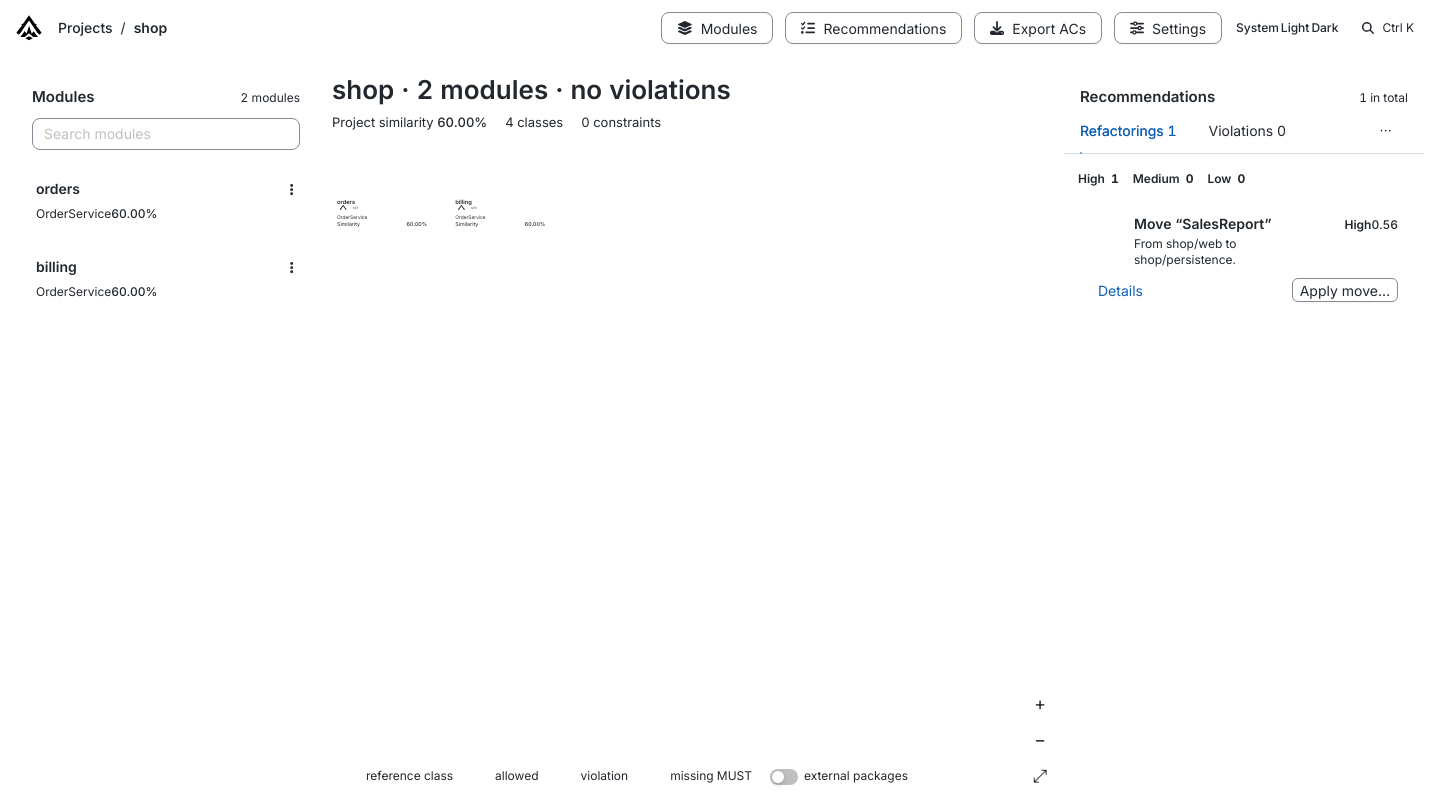
Scenario: AnalyzePage › shows the re-elected modules and new recommendations after the weights change
Check: the button "Apply move…" is shown, box [1292,278,1398,302]
Step 1. Click the button "Settings" → (1168, 28), box [1114,12,1222,44]
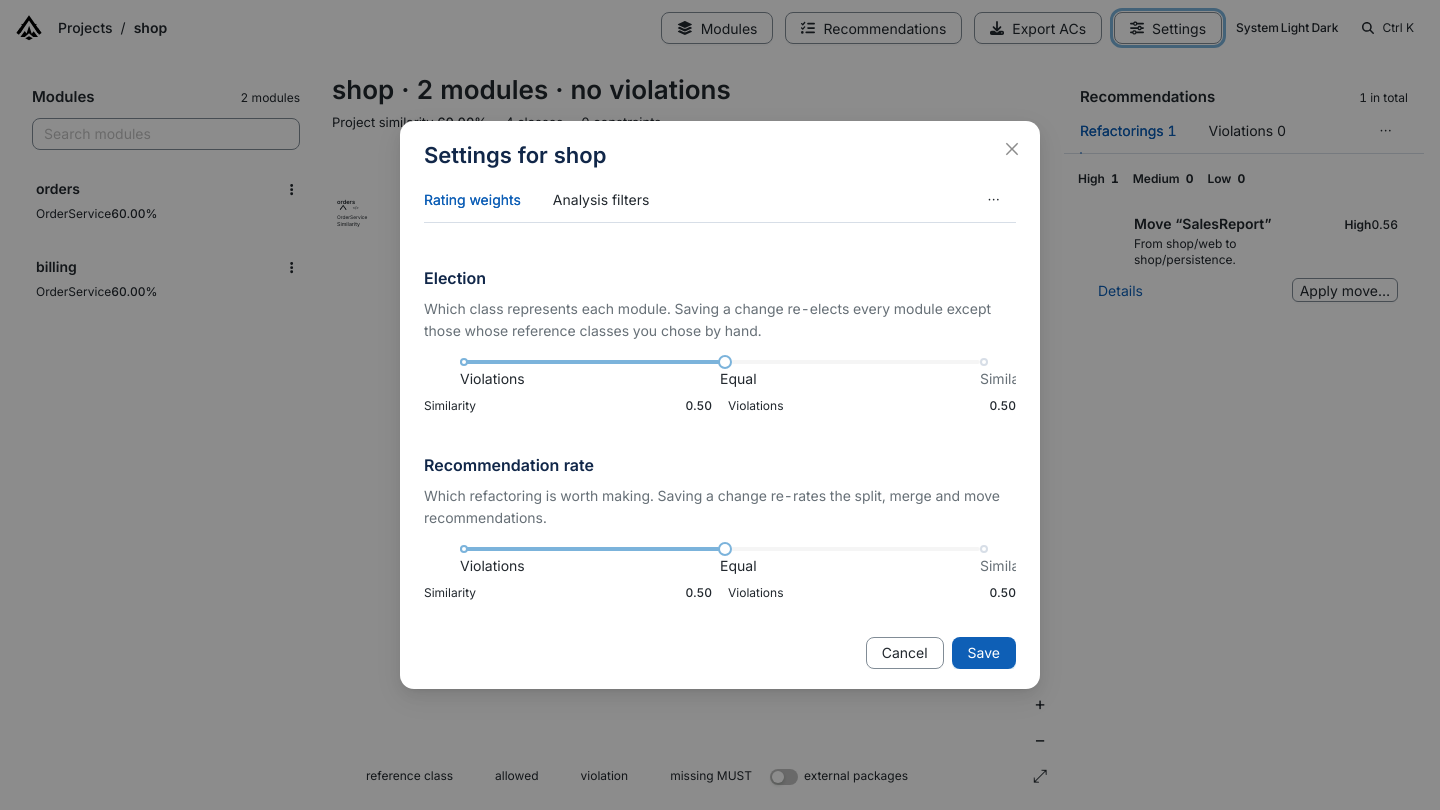
Step 2. Press ArrowRight in the slider named "Election: similarity weight", box [720,357,730,367]
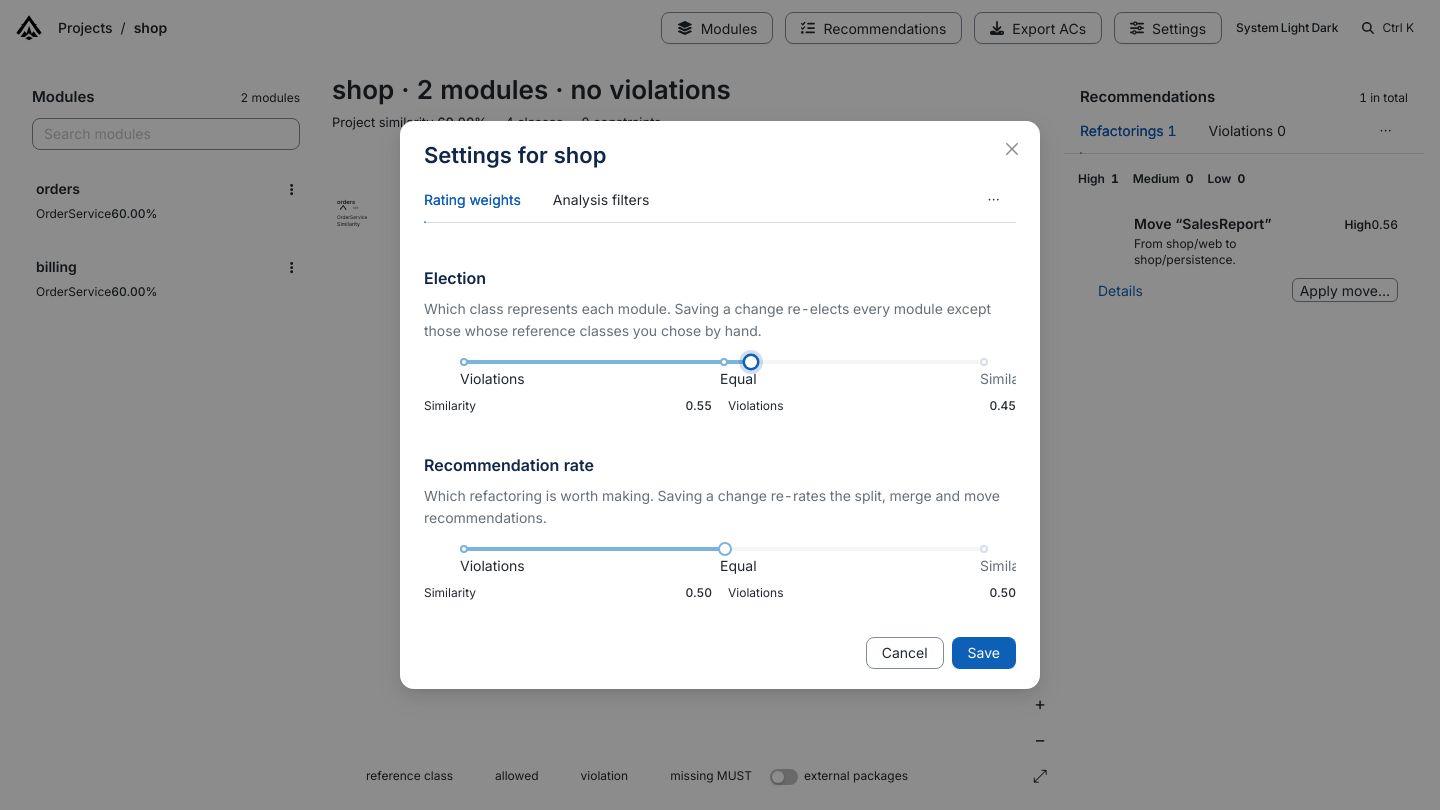
Step 3. Click the button "Save" → (984, 653), box [952,637,1016,669]
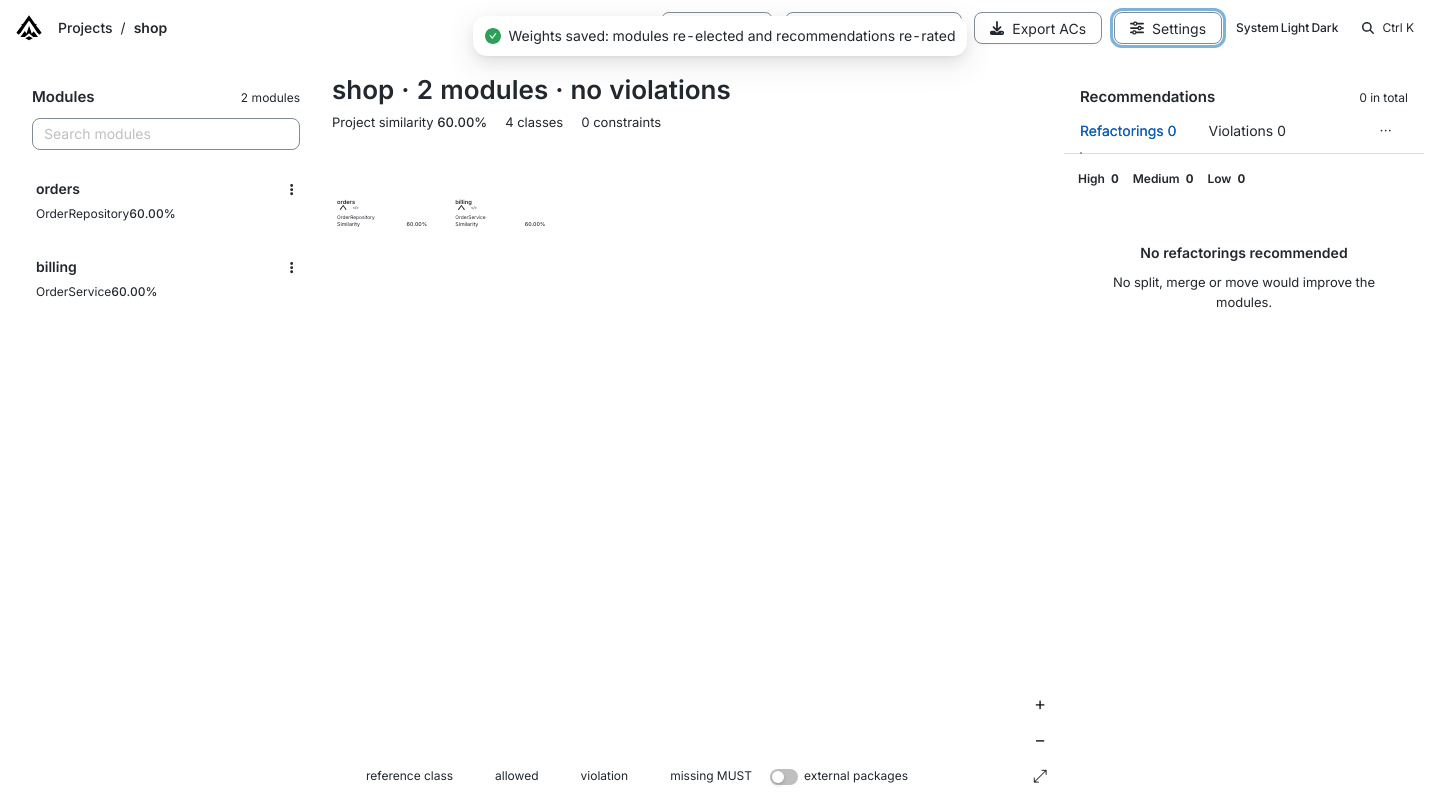
Check: the 1st text "OrderRepository" is shown, box [337,214,375,220]
Check: the button "Apply move…" is gone
